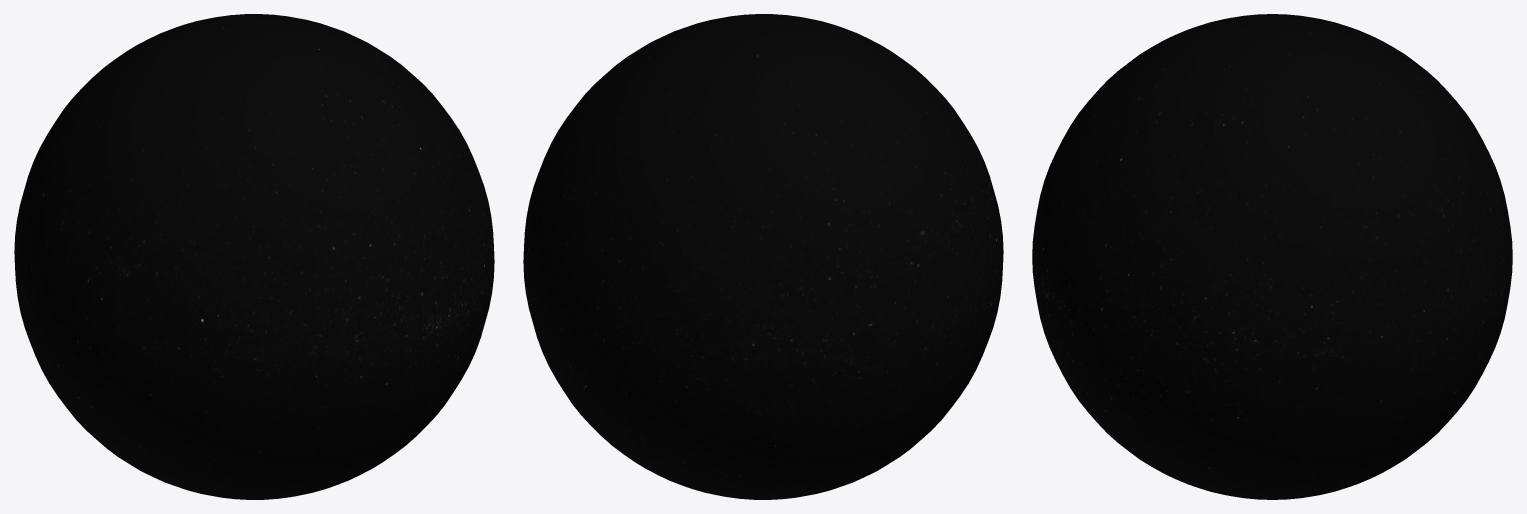
File: Stars.obj
3 views of the same model, side by side, from view 1: azimuth 30°, elevation 25°; view 2: azimuth 150°, elevation 25°; view 3: azimuth 270°, elevation 25° (orthographic).
Parts seen in each view (by area): view 1: Stars; view 2: Stars; view 3: Stars.
Boxes of the visible parts, x1=… form: Stars: x1=14, y1=14, x2=494, y2=499; Stars: x1=523, y1=14, x2=1003, y2=499; Stars: x1=1032, y1=14, x2=1512, y2=499.
Size of the model in its own units: 4.92 by 4.97 by 4.92.
1 material, 1 textured.
